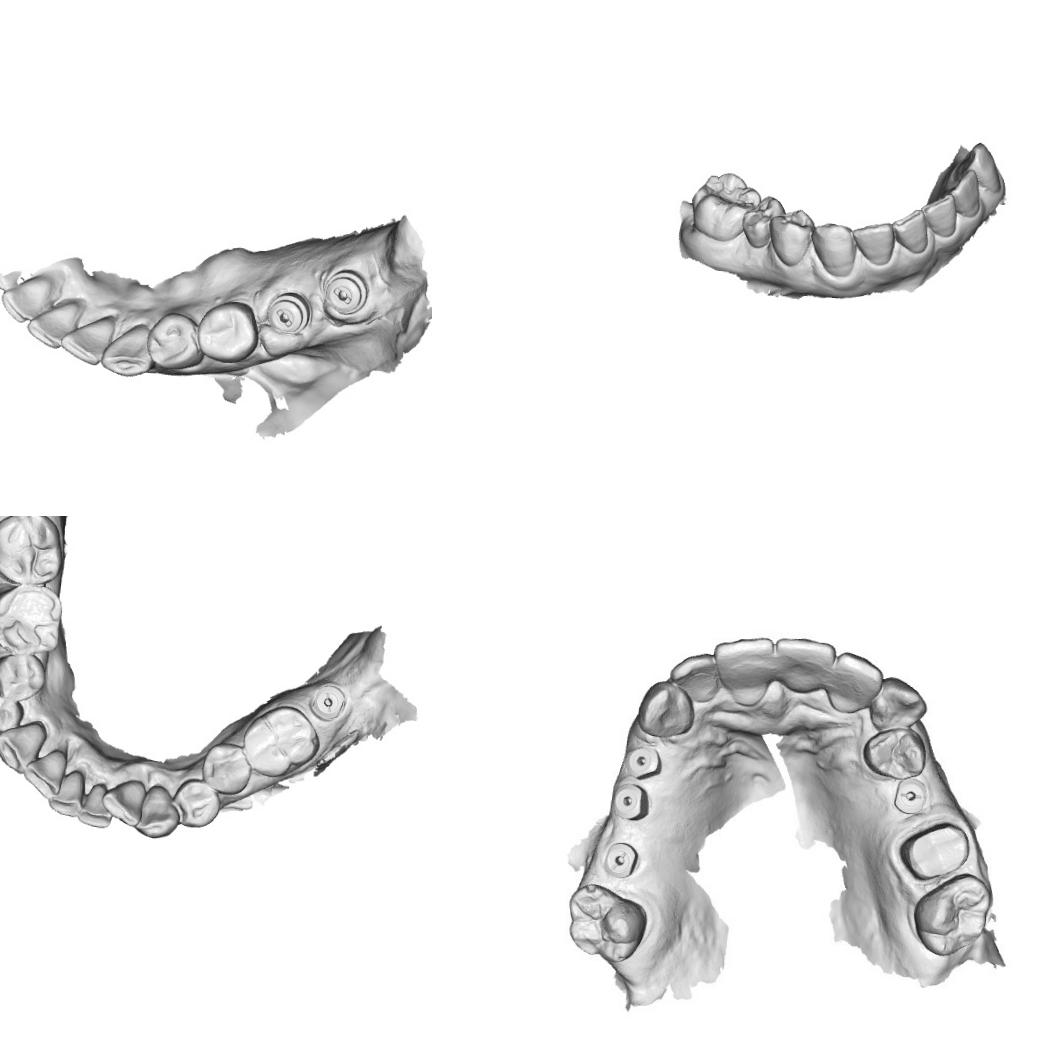canine: (867, 675, 928, 735), (637, 681, 696, 740), (100, 320, 154, 380), (808, 220, 856, 279), (134, 784, 181, 840), (0, 719, 47, 775)
crown: (905, 820, 965, 880)
implant: (611, 782, 648, 819), (626, 744, 664, 776)
implant_minus: (267, 290, 315, 336), (321, 269, 364, 316), (306, 680, 349, 724), (888, 777, 928, 813), (604, 838, 638, 878)
incisor: (710, 634, 775, 706), (769, 635, 839, 697), (827, 649, 886, 708), (0, 270, 58, 325), (667, 652, 720, 708), (953, 139, 1005, 194), (58, 314, 114, 365), (24, 299, 80, 350), (22, 745, 68, 802), (100, 777, 147, 829), (850, 218, 896, 268), (47, 768, 86, 820), (942, 168, 982, 218), (891, 207, 929, 256), (919, 191, 957, 239), (76, 782, 113, 829)
molar: (564, 880, 652, 967), (909, 871, 993, 960), (240, 702, 322, 780), (688, 169, 763, 244), (0, 516, 65, 586), (0, 583, 63, 655)
premolar: (195, 298, 257, 362), (146, 310, 202, 372), (861, 724, 924, 777), (766, 206, 816, 267), (200, 742, 254, 796), (170, 777, 222, 829), (740, 194, 786, 250), (0, 652, 46, 702), (0, 689, 25, 739)
